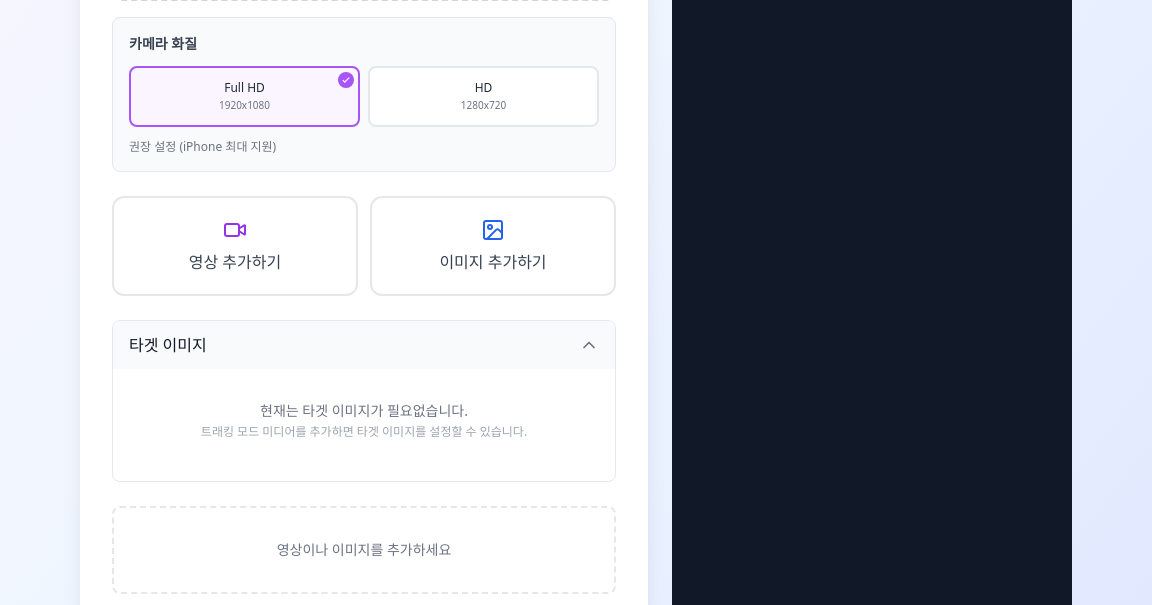
Test: CreateProjectPage › Media Item Addition › should add image item when clicking add image button
(page scrolled)
# 이미지 추가 버튼 클릭
Step 1. Click the button "이미지 추가하기" → (493, 246), box [370, 196, 616, 296]
(page scrolled)
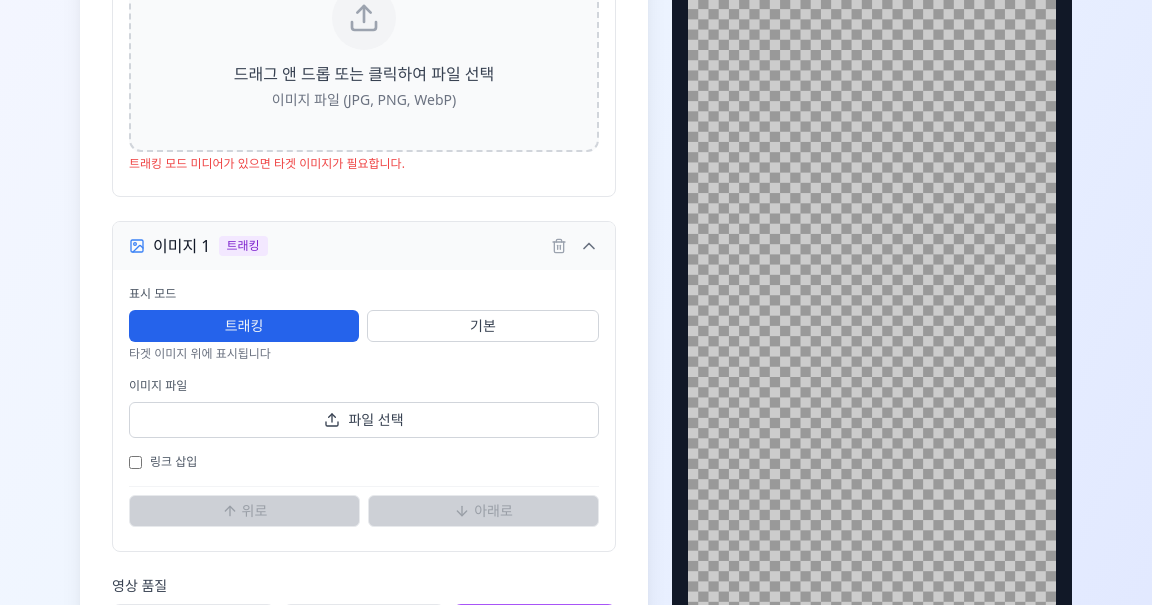
Check: the text "이미지 1" is shown, box [153, 234, 210, 258]
